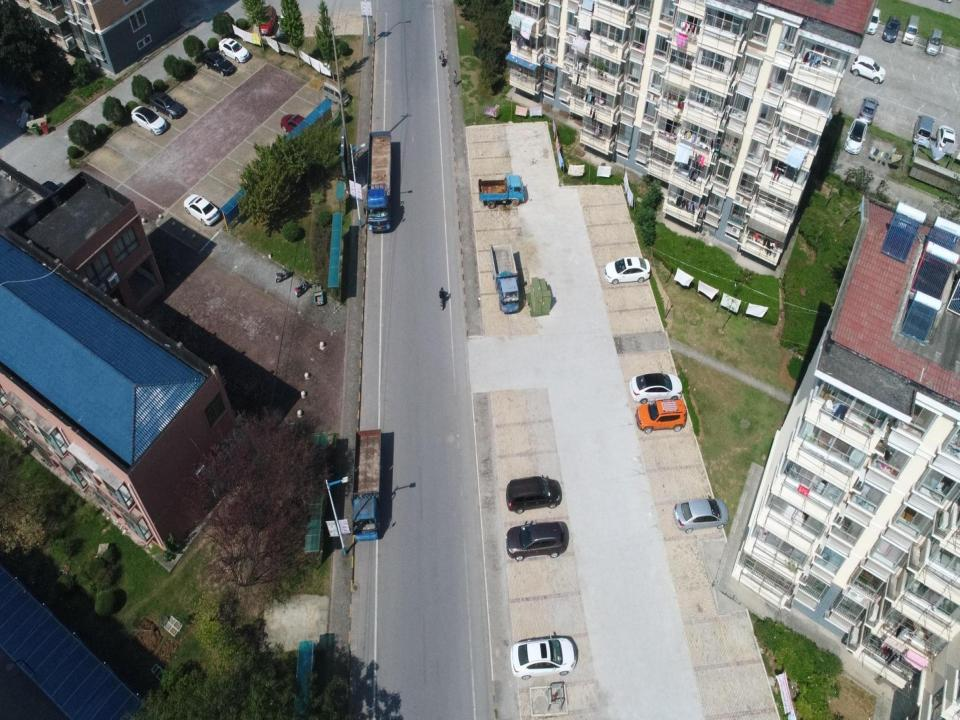car: (511, 636, 577, 680), (508, 523, 565, 560), (507, 475, 562, 512), (629, 369, 683, 402), (635, 400, 687, 432), (673, 500, 728, 530), (606, 256, 651, 286), (132, 106, 168, 136), (851, 55, 886, 83), (150, 92, 184, 118), (845, 116, 867, 154), (202, 51, 234, 76), (218, 38, 250, 62), (282, 114, 314, 134), (256, 5, 276, 36), (937, 124, 955, 157), (858, 97, 878, 125), (277, 7, 292, 40), (883, 14, 900, 43), (866, 8, 881, 35)
truck: (351, 428, 383, 542), (366, 131, 392, 233), (490, 245, 521, 313), (480, 173, 526, 208)
van: (184, 194, 220, 225), (322, 79, 350, 106), (913, 112, 933, 148), (904, 15, 918, 47), (928, 26, 942, 55)
